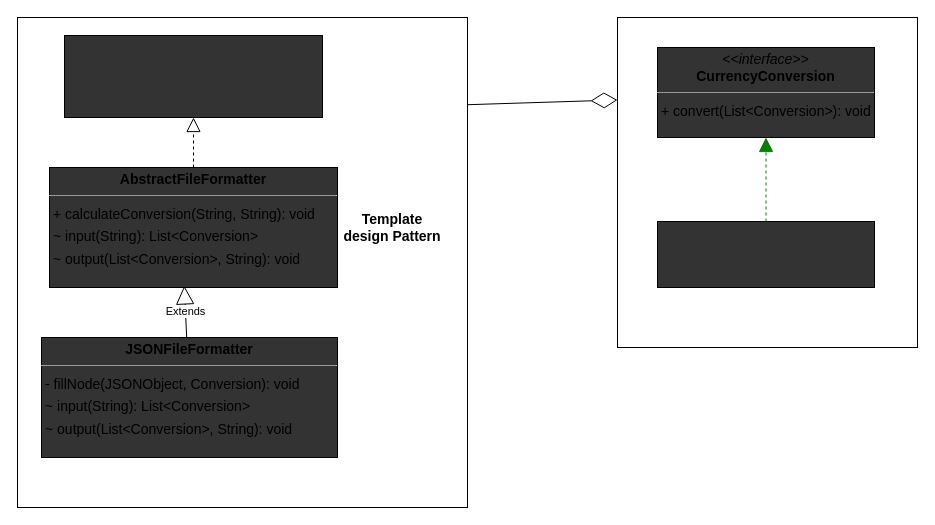
Some shapes in this 935 by 525 pixel diagram are drawn without their labels. Here are the shapes that lost their labels. From the top down, the centre of each, then its label:
pixel 193 76: <<interface>> FileFormatter + calculateConversion(String, String): void
pixel 765 254: CurrencyConversionImpl + convert(List<Conversion>): void
